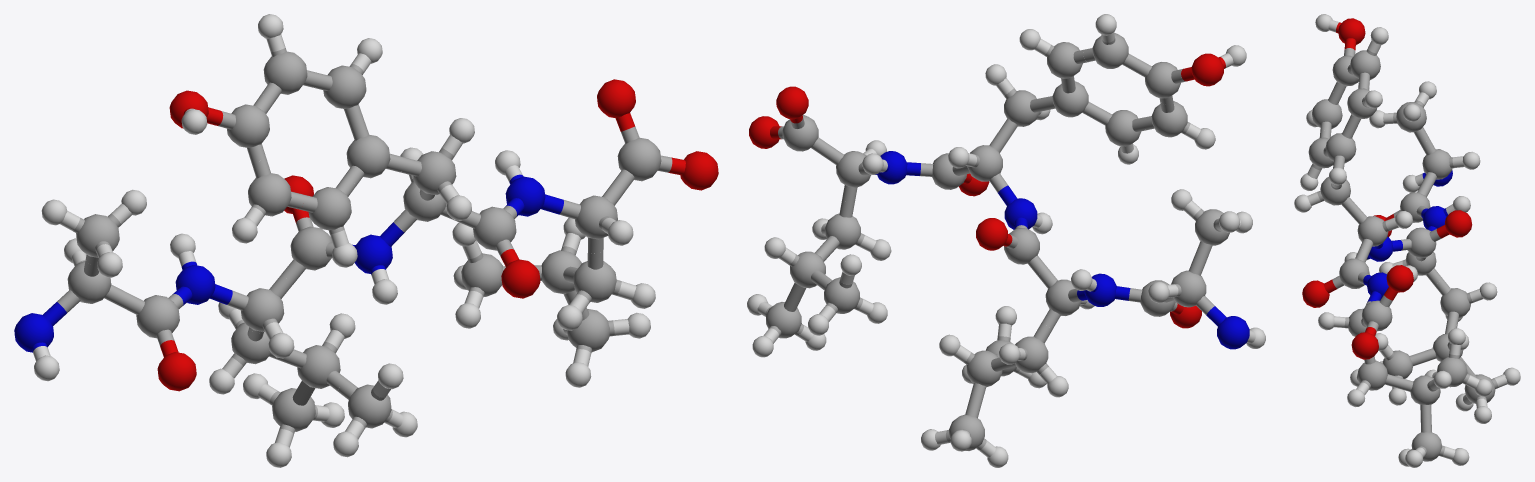
Rendered from pept2.gltf.
3 renders of one model, left to right at view 1: azimuth 30°, elevation 25°; view 2: azimuth 150°, elevation 25°; view 3: azimuth 270°, elevation 25°, orthographic. The views are drawn at different scales.
Visible parts, largest first — view 1: vmd_mol0_rep3; view 2: vmd_mol0_rep3; view 3: vmd_mol0_rep3.
Part boxes in pixels (x1,y1,x2,y2): vmd_mol0_rep3: (14, 14, 718, 467); vmd_mol0_rep3: (747, 14, 1265, 467); vmd_mol0_rep3: (1294, 14, 1520, 467).
Size of the model in its own units: 1.84 by 1.39 by 0.7958.
